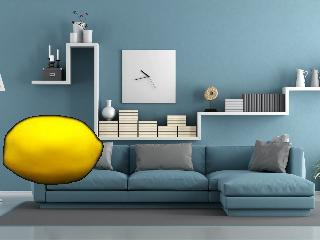lemon: (3, 116, 102, 184)
